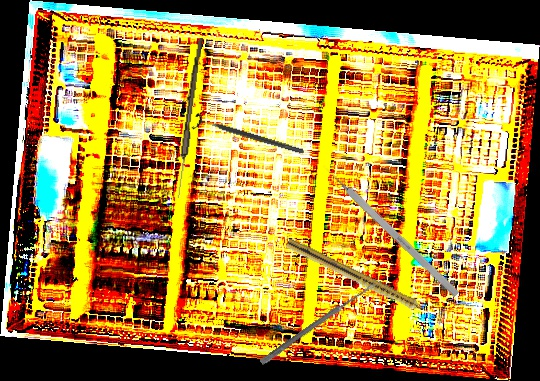Fixation Ring: (190, 111, 307, 161)
Handpiece: (284, 237, 435, 321)
Hook Surgical: (320, 162, 460, 298)
Surgical Spoon: (259, 281, 377, 366), (175, 37, 203, 199)
